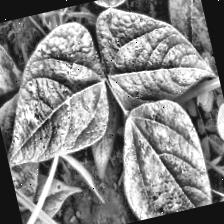ALS: (0, 8, 118, 173), (94, 0, 208, 111), (110, 108, 220, 222)
